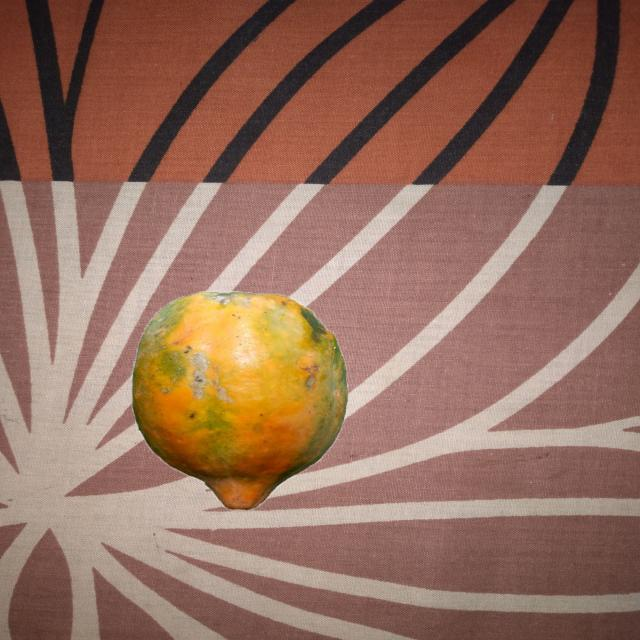Pepaya rippen: (123, 282, 358, 514)
